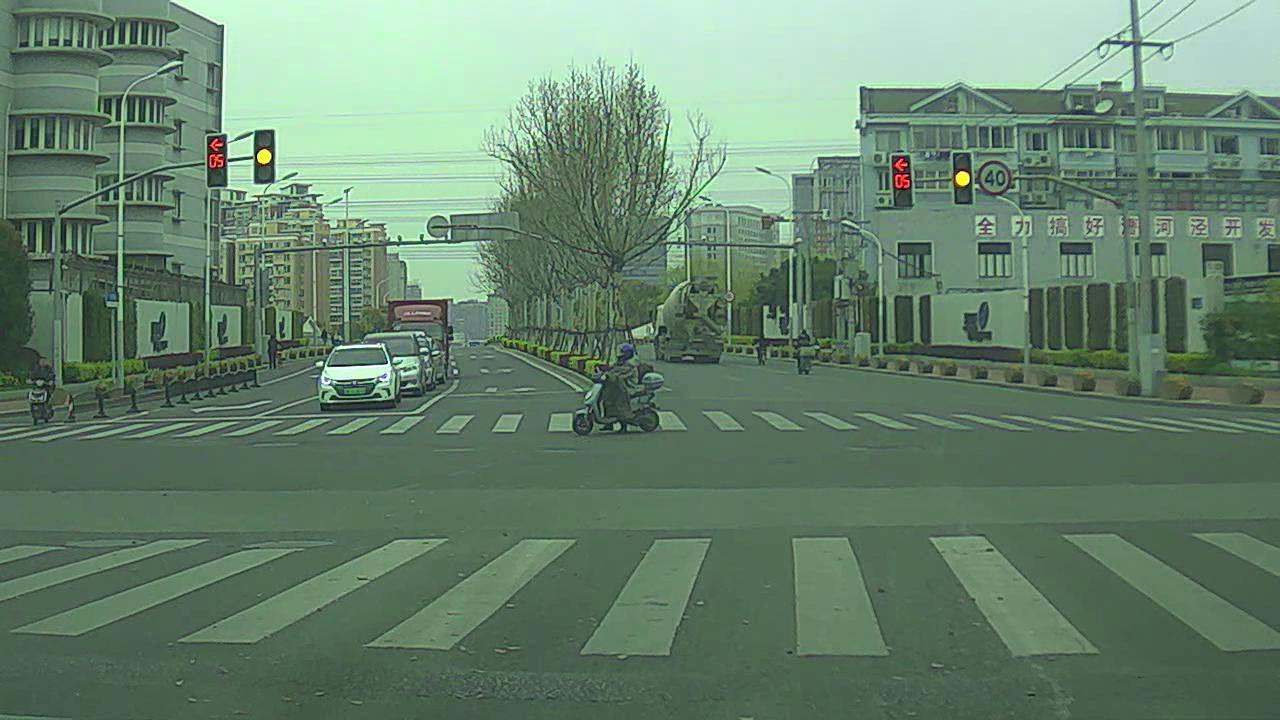traffic_light: (204, 130, 228, 187), (890, 153, 914, 207), (952, 152, 975, 207), (252, 131, 275, 181)
